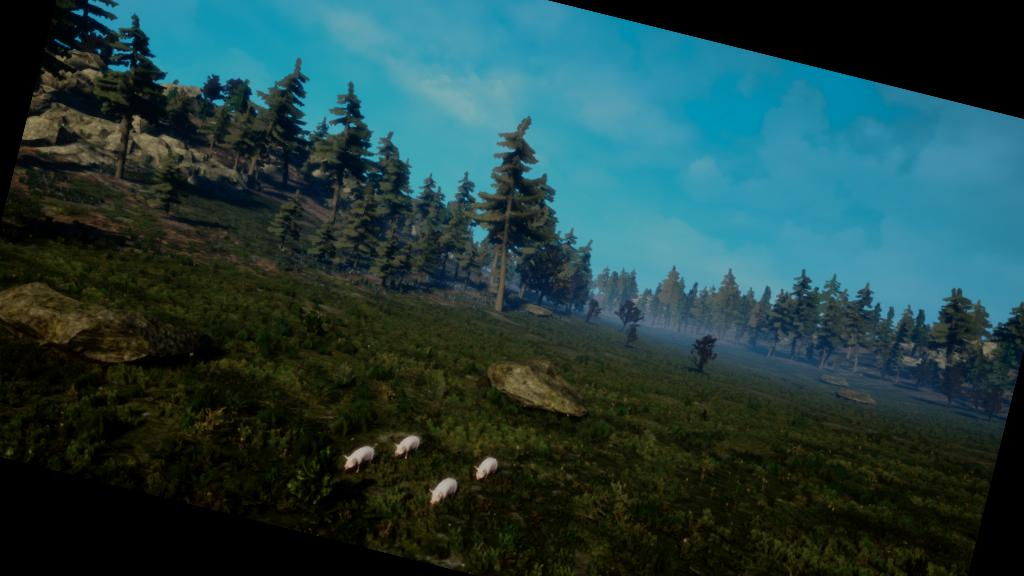pig: (420, 466, 468, 518), (335, 436, 384, 484), (464, 448, 511, 494), (386, 426, 430, 472)
